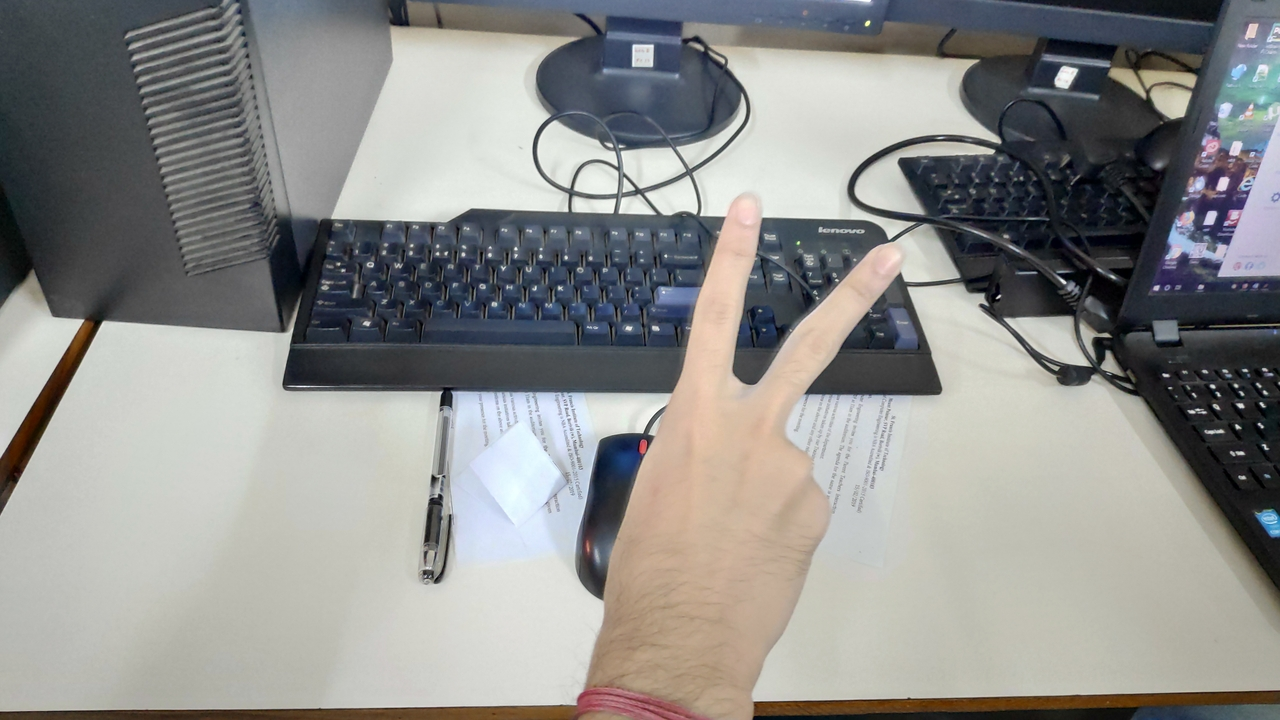fingertip: (848, 228, 922, 292), (722, 174, 774, 228), (418, 382, 466, 418)
